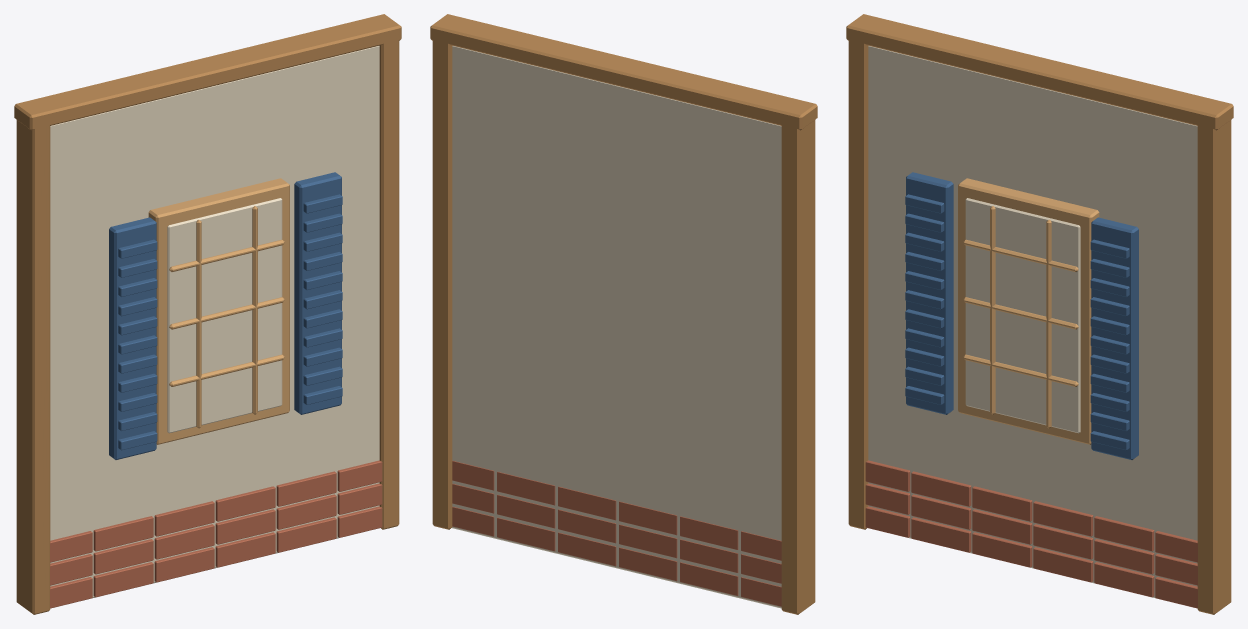
Rendered from wall-window.glb.
3 views of the same model, side by side, from view 1: azimuth 30°, elevation 25°; view 2: azimuth 150°, elevation 25°; view 3: azimuth 330°, elevation 25° (orthographic).
Parts seen in each view (by area): view 1: wall_window; view 2: wall_window; view 3: wall_window.
Boxes of the visible parts, <box> form: wall_window: <box>14,14,401,614</box>; wall_window: <box>430,14,817,614</box>; wall_window: <box>846,14,1233,614</box>.
Size of the model in its own units: 3.05 by 3.92 by 0.4675.
